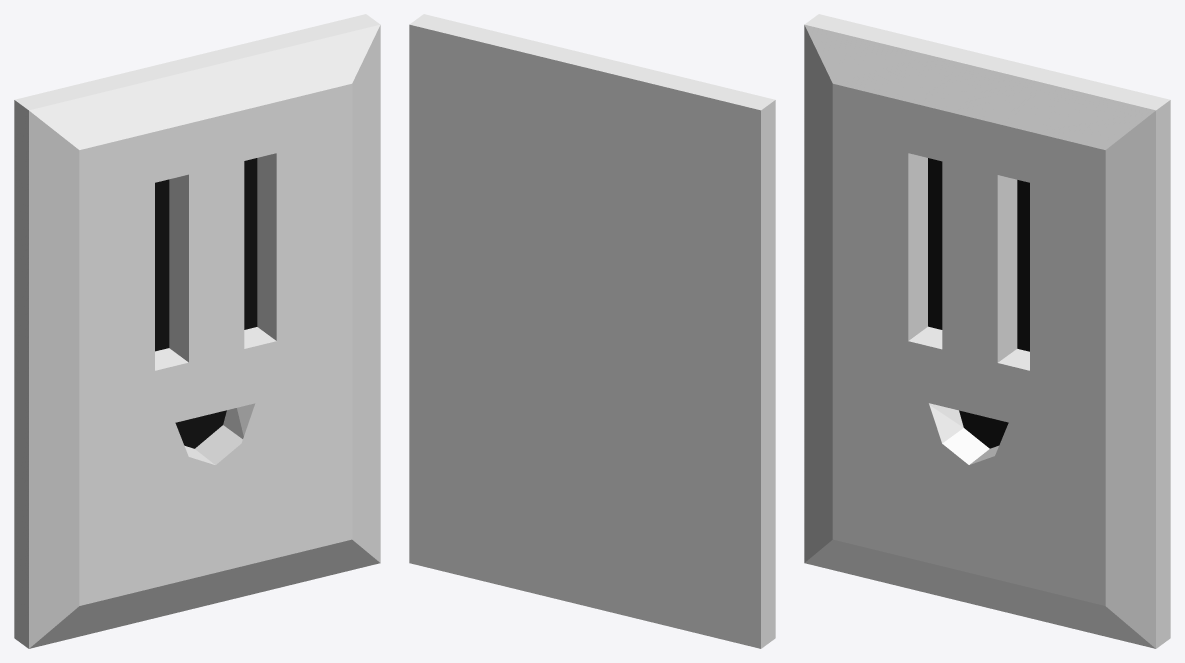
File: Electrical_Socket.FBX
3 views of the same model, side by side, from view 1: azimuth 30°, elevation 25°; view 2: azimuth 150°, elevation 25°; view 3: azimuth 330°, elevation 25° (orthographic).
Visible parts, largest first — view 1: Electrical_Socket; view 2: Electrical_Socket; view 3: Electrical_Socket.
Part boxes in pixels (<box>): Electrical_Socket: <box>14,14,380,648</box>; Electrical_Socket: <box>409,14,775,648</box>; Electrical_Socket: <box>804,14,1170,648</box>.
Size of the model in its own units: 39.79 by 58.21 by 5.01.
